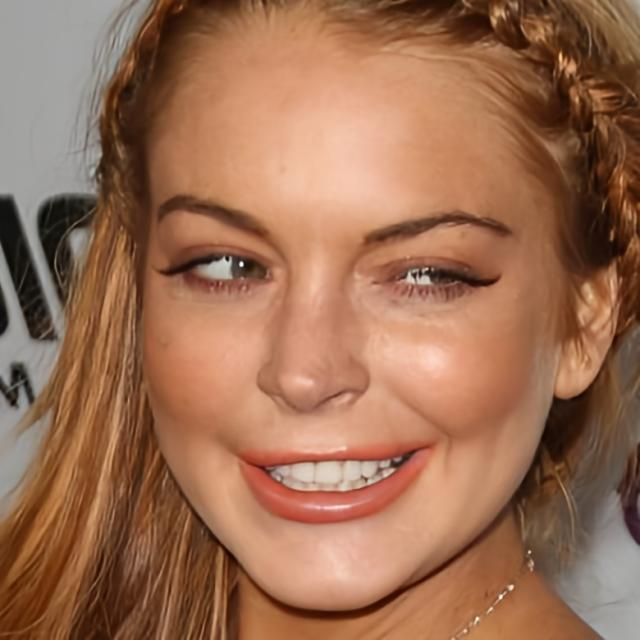happy: (128, 58, 560, 612)
